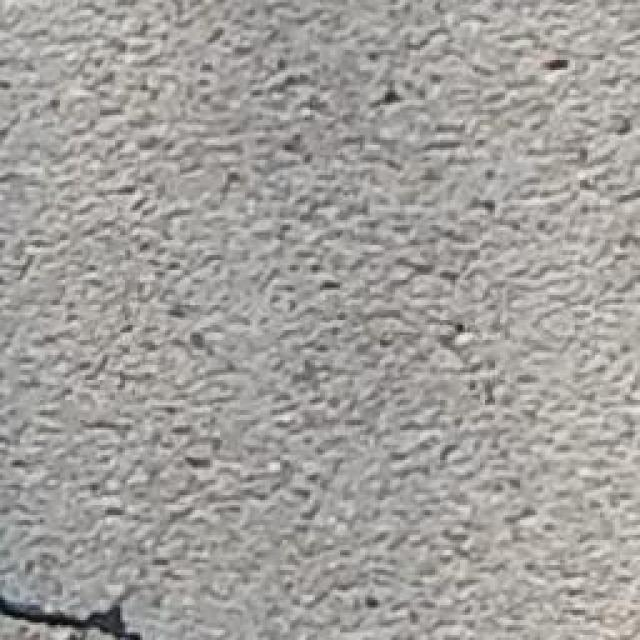concrete-crack: (3, 593, 152, 640)
